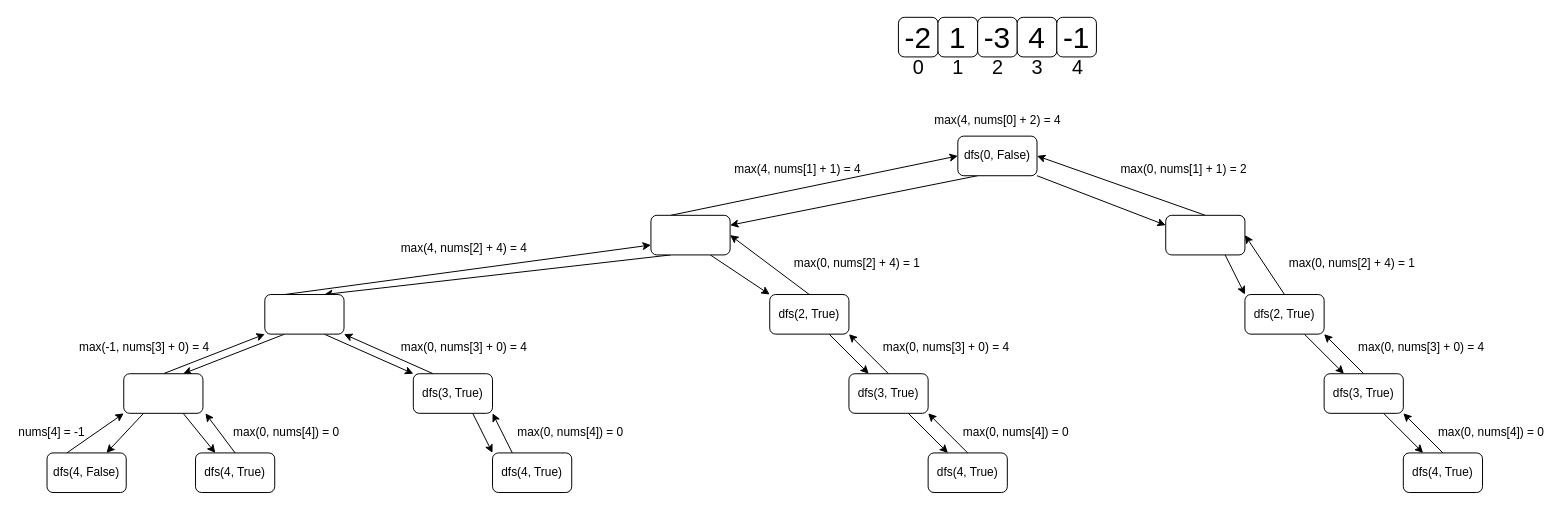
Some shapes in this 1566 by 510 pixel diagram are drawn without their labels. The centre of each missing label's shape, as x and y in pixels:
"dfs(1, False)" belongs at point 690,234.
"dfs(1, True)" belongs at point 1205,234.
"dfs(2, False)" belongs at point 304,314.
"dfs(3, False)" belongs at point 163,393.
